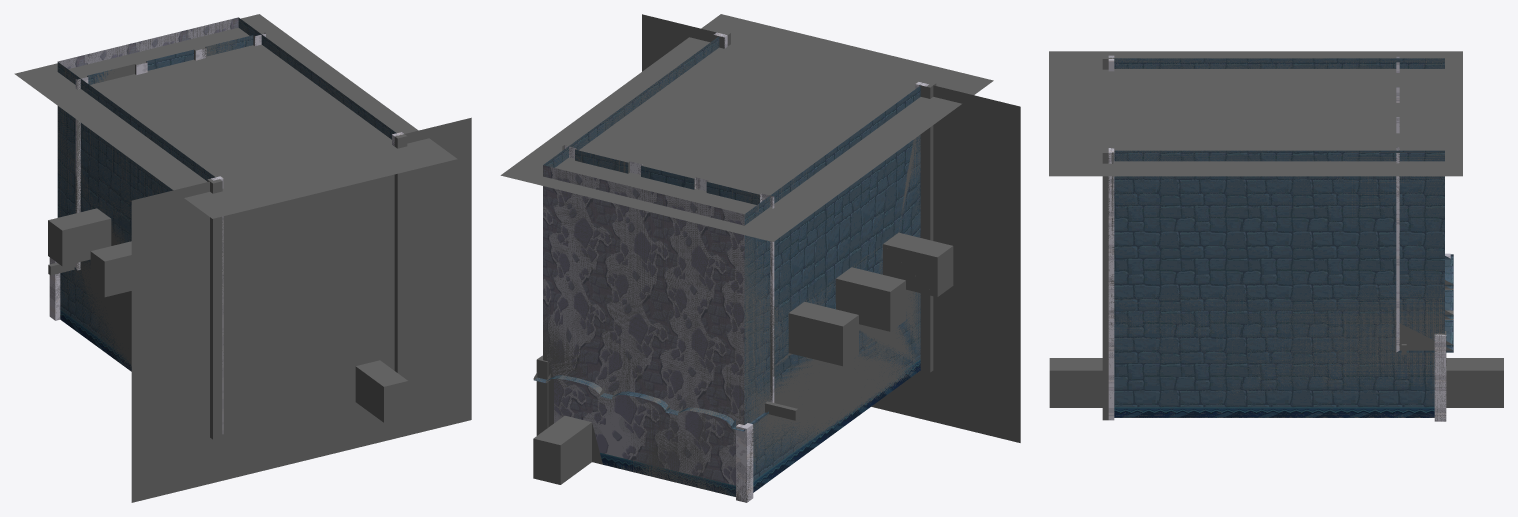
The model's file is jin_03_bake_split.dae.
3 views of the same model, side by side, from view 1: azimuth 30°, elevation 25°; view 2: azimuth 150°, elevation 25°; view 3: azimuth 270°, elevation 25° (orthographic). The views are drawn at different scales.
Visible parts, largest first — view 1: S_msk, a_ten03, a_kabe_mae, S_kabe_l_part0, a_gawa02, a_hasira02, a_hasira03, ashiba03_part0, a_bero_1, ashiba02, S_kabe_oku_part0, S_kabe_r_part0 (+5 smaller); view 2: a_gawa02, a_ten03, S_kabe_oku_part0, S_msk, S_kabe_l_part0, ashiba03_part0, ashiba01_part0, ashiba02, S_kabe_ue_part0, a_hasira02, a_bero_atari01, a_kabe_oku_02 (+7 smaller); view 3: S_kabe_r_part0, a_ten03, a_gawa02, S_kabe_l_part0, S_kabe_r_part1, a_bero_1, ashiba04, a_hasira03, pCube3_q00005, pCube5_q00006, S_kabe_ue_part1, a_kabe_oku_02 (+1 smaller).
Part boxes in pixels (box(x1,y1,x2,y2)): S_msk: box(131, 117, 471, 502); a_ten03: box(14, 14, 457, 218); a_kabe_mae: box(204, 171, 409, 456); S_kabe_l_part0: box(57, 62, 215, 354); a_gawa02: box(57, 18, 395, 371); a_hasira02: box(207, 178, 222, 439); a_hasira03: box(392, 133, 407, 379); ashiba03_part0: box(48, 208, 111, 266); a_bero_1: box(355, 360, 408, 422); ashiba02: box(90, 241, 131, 297); S_kabe_oku_part0: box(58, 17, 238, 68); S_kabe_r_part0: box(238, 18, 396, 139); a_gawa02: box(543, 36, 920, 496); a_ten03: box(500, 14, 993, 241); S_kabe_oku_part0: box(543, 165, 744, 485); S_msk: box(642, 14, 1020, 442); S_kabe_l_part0: box(744, 85, 920, 481); ashiba03_part0: box(788, 301, 858, 366); ashiba01_part0: box(883, 232, 953, 297); ashiba02: box(836, 267, 905, 331); S_kabe_ue_part0: box(534, 149, 768, 431); a_hasira02: box(919, 80, 936, 372); a_bero_atari01: box(533, 415, 591, 484); a_kabe_oku_02: box(533, 145, 774, 424); S_kabe_r_part0: box(1114, 150, 1444, 407); a_ten03: box(1049, 51, 1462, 176); a_gawa02: box(1114, 58, 1444, 417); S_kabe_l_part0: box(1114, 58, 1444, 68); S_kabe_r_part1: box(1114, 407, 1434, 417); a_bero_1: box(1049, 358, 1102, 407); ashiba04: box(1446, 358, 1503, 407); a_hasira03: box(1102, 148, 1114, 420); pCube3_q00005: box(1108, 148, 1114, 420); pCube5_q00006: box(1434, 334, 1446, 421); S_kabe_ue_part1: box(1396, 56, 1399, 352); a_kabe_oku_02: box(1396, 147, 1453, 351).
Bounding box in the file's own units: 69.49 × 59.04 × 77.08.
